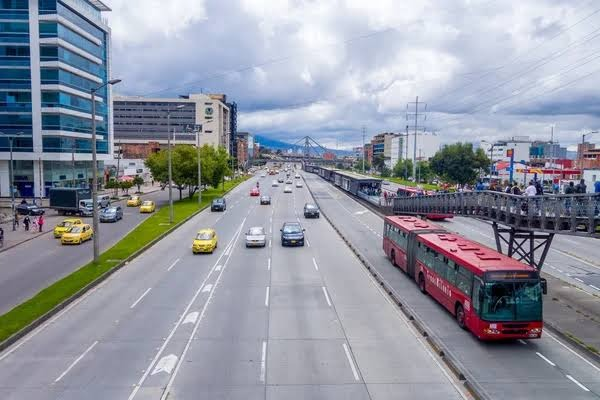car: (370, 213, 545, 340), (51, 218, 94, 244), (190, 225, 218, 254)
